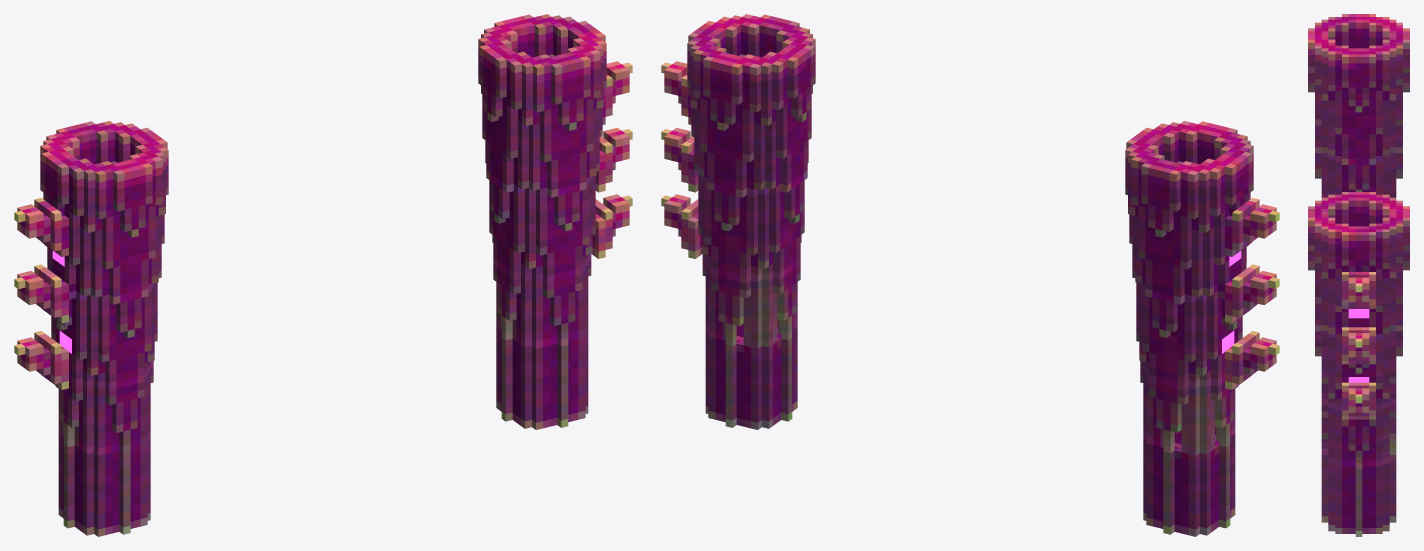
Rendered from armor_set2_hands.glb.
3 views of the same model, side by side, from view 1: azimuth 30°, elevation 25°; view 2: azimuth 150°, elevation 25°; view 3: azimuth 270°, elevation 25° (orthographic). The views are drawn at different scales.
Parts seen in each view (by area): view 1: Set2_SpikedVambraces_7mm; view 2: Set2_SpikedVambraces_7mm; view 3: Set2_SpikedVambraces_7mm.
Boxes of the visible parts, x1,y1,x2,y2 form: Set2_SpikedVambraces_7mm: [14, 14, 632, 536]; Set2_SpikedVambraces_7mm: [661, 14, 1279, 536]; Set2_SpikedVambraces_7mm: [1308, 14, 1409, 536].
Bounding box in the file's own units: 0.609 × 0.35 × 0.105.
